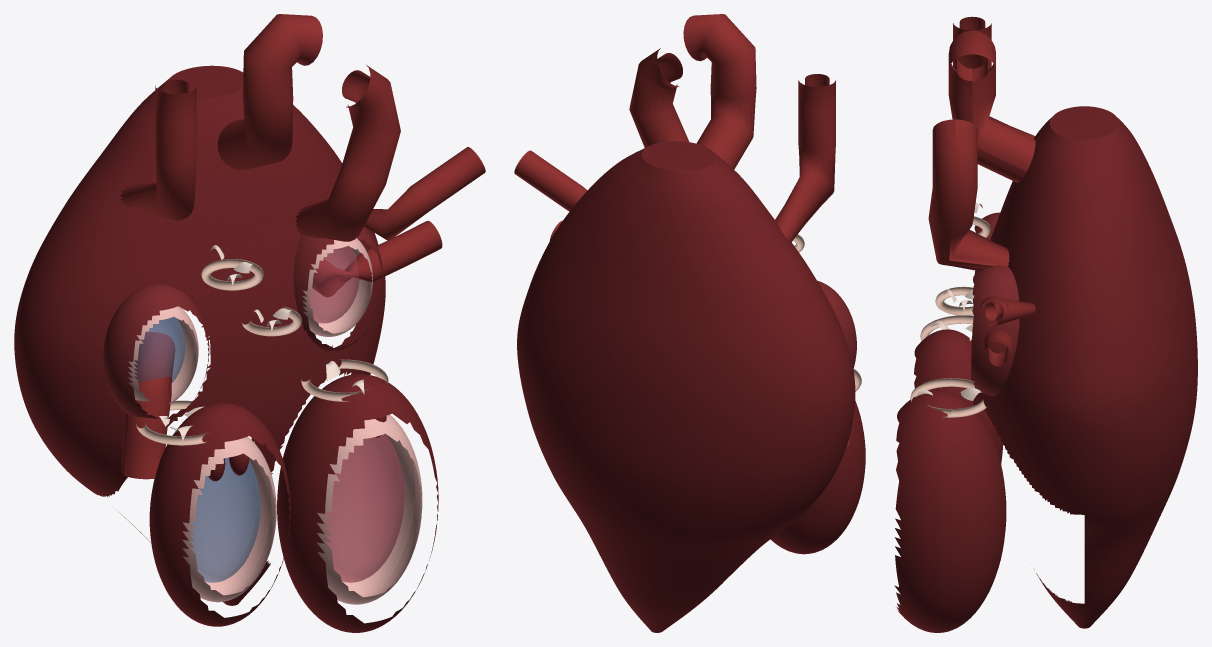
File: heart_segmented_aortic_leaky.glb
3 views of the same model, side by side, from view 1: azimuth 30°, elevation 25°; view 2: azimuth 150°, elevation 25°; view 3: azimuth 270°, elevation 25° (orthographic). The views are drawn at different scales.
Parts seen in each view (by area): view 1: HeartBody, WallLV, WallRV, Aorta, PulmonaryTrunk, BloodLV, WallRA, SVC, BloodRV, WallLA, IVC, PulmonaryVeinL (+7 smaller); view 2: HeartBody, Aorta, SVC, WallRV, PulmonaryTrunk, PulmonaryVeinL, WallRA; view 3: HeartBody, WallLV, PulmonaryTrunk, Aorta, WallLA, WallRV, PulmonaryVeinL, AnnulusMitral, SVC, PulmonaryVeinR, AnnulusPulmonary, AnnulusTricuspid.
Part boxes in pixels (left/top/right/bottom): HeartBody: left=14, top=65, right=385, bottom=605; WallLV: left=277, top=374, right=438, bottom=632; WallRV: left=149, top=402, right=290, bottom=626; Aorta: left=217, top=14, right=322, bottom=169; PulmonaryTrunk: left=295, top=65, right=400, bottom=241; BloodLV: left=325, top=434, right=404, bottom=582; WallRA: left=103, top=284, right=209, bottom=419; SVC: left=119, top=79, right=196, bottom=220; BloodRV: left=190, top=457, right=260, bottom=582; WallLA: left=293, top=226, right=383, bottom=351; IVC: left=121, top=331, right=175, bottom=479; PulmonaryVeinL: left=364, top=147, right=485, bottom=240; HeartBody: left=517, top=141, right=855, bottom=632; Aorta: left=683, top=14, right=756, bottom=169; SVC: left=775, top=74, right=835, bottom=242; WallRV: left=770, top=401, right=865, bottom=554; PulmonaryTrunk: left=629, top=48, right=689, bottom=147; PulmonaryVeinL: left=514, top=150, right=587, bottom=211; WallRA: left=817, top=280, right=856, bottom=368; HeartBody: left=971, top=106, right=1197, bottom=628; WallLV: left=894, top=389, right=1006, bottom=632; PulmonaryTrunk: left=928, top=119, right=1009, bottom=271; Aorta: left=948, top=30, right=1035, bottom=182; WallLA: left=971, top=265, right=1019, bottom=395; WallRV: left=914, top=329, right=1002, bottom=464; PulmonaryVeinL: left=979, top=296, right=1035, bottom=326; AnnulusMitral: left=910, top=378, right=986, bottom=417; SVC: left=953, top=16, right=1035, bottom=138; PulmonaryVeinR: left=983, top=330, right=1012, bottom=366; AnnulusPulmonary: left=935, top=286, right=973, bottom=315; AnnulusTricuspid: left=920, top=315, right=973, bottom=340.
Size of the model in its own units: 0.1023 by 0.1514 by 0.0705.
9 materials, 3 textured.
